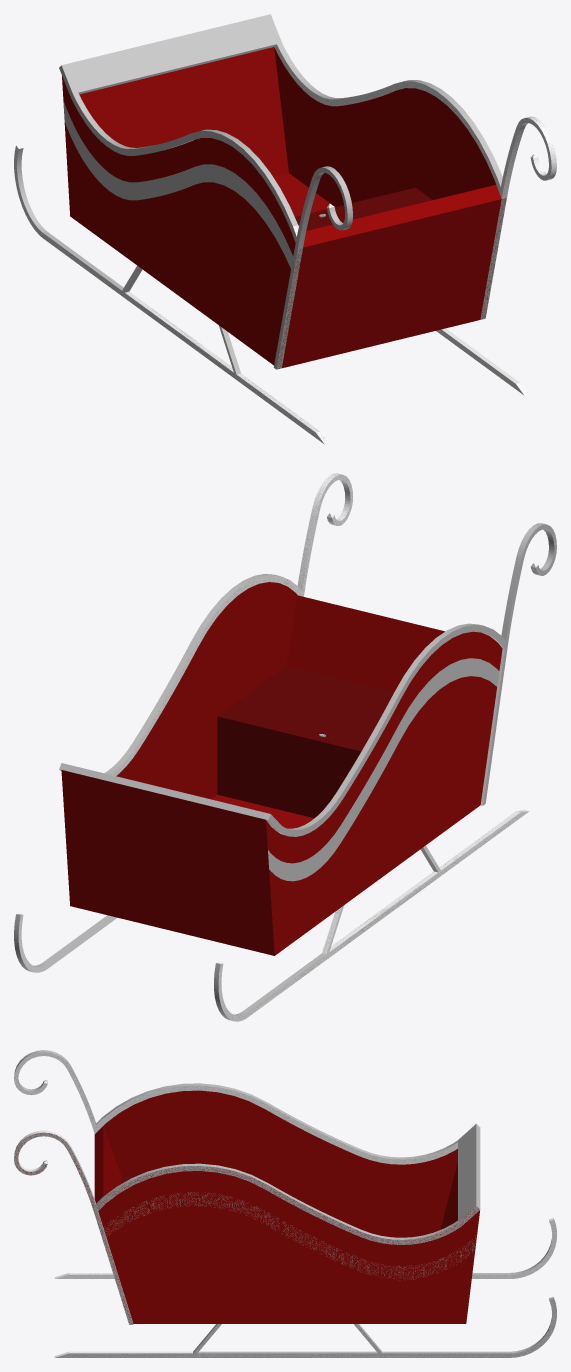
The model's file is sleigh.dae.
The picture shows the model from 3 angles, top to bottom: view 1: azimuth 30°, elevation 25°; view 2: azimuth 150°, elevation 25°; view 3: azimuth 270°, elevation 25°; orthographic projection. The views are drawn at different scales.
Visible parts, largest first — view 1: Santa_s_Sleigh (×12); view 2: Santa_s_Sleigh (×13); view 3: Santa_s_Sleigh (×10).
Part boxes in pixels (x1,y1,x2,y2): Santa_s_Sleigh (×12): (14, 14, 556, 444); Santa_s_Sleigh (×13): (14, 473, 556, 1021); Santa_s_Sleigh (×10): (14, 1050, 556, 1357).
Size of the model in its own units: 104 by 291 by 134.
